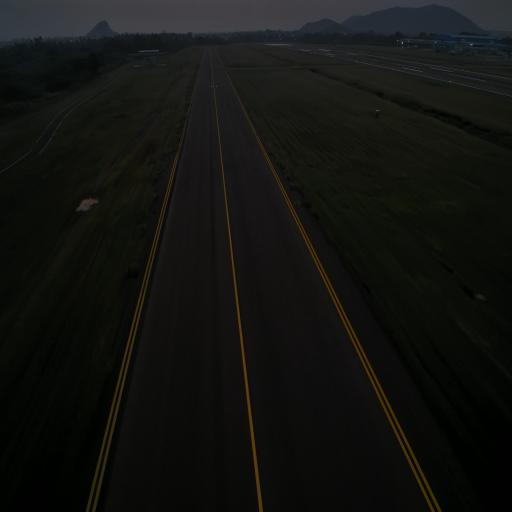on: (289, 180, 294, 190), (152, 190, 157, 199)
